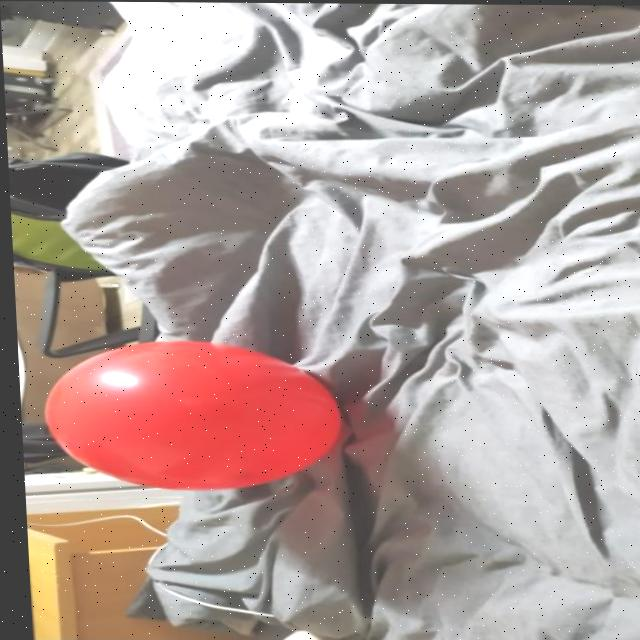balloon: (27, 340, 340, 490)
